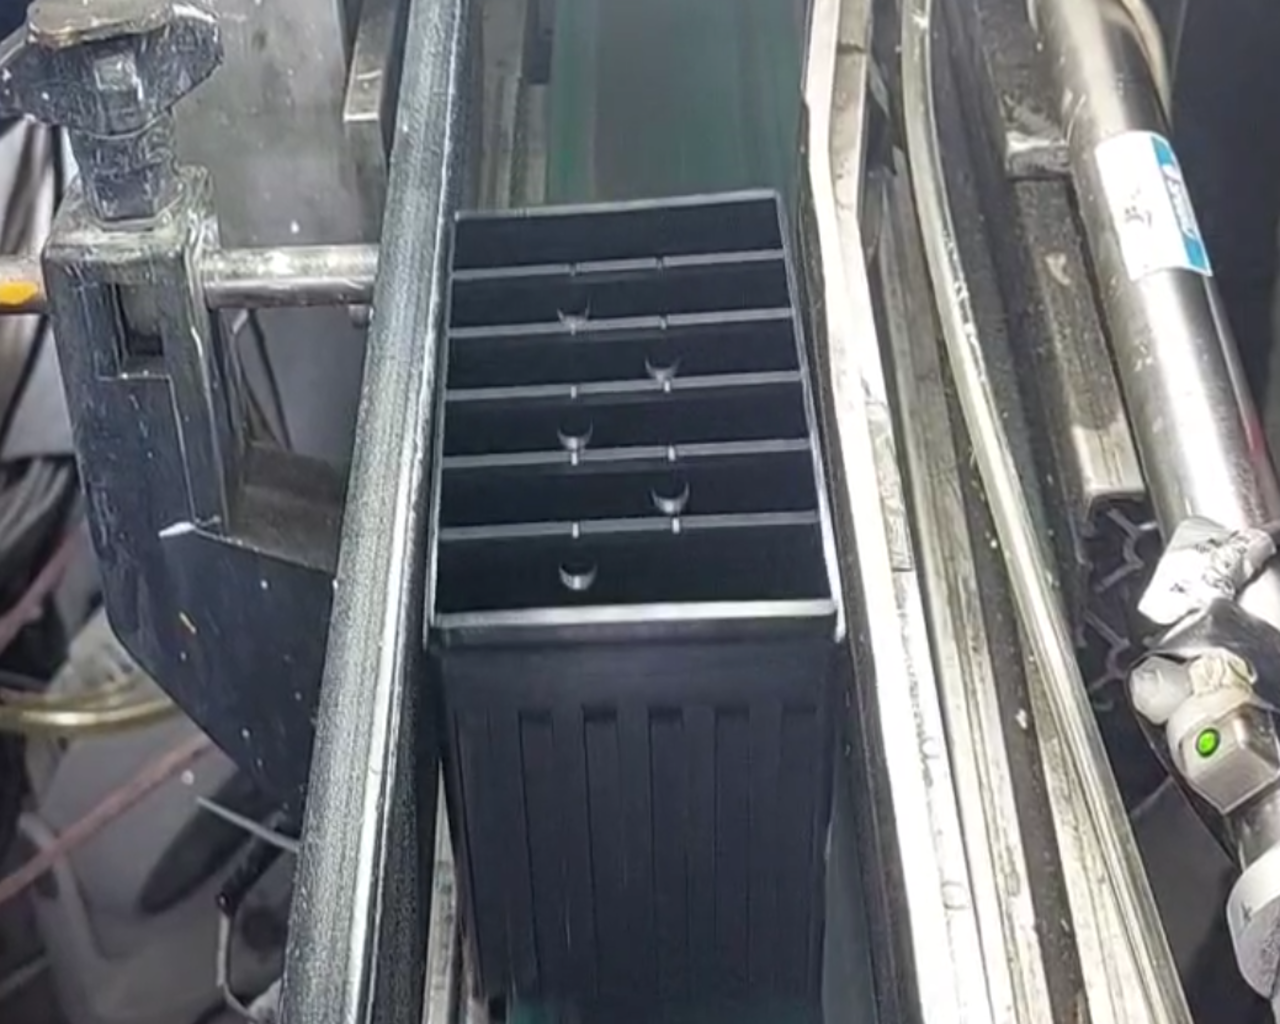box: (410, 174, 858, 664)
round: (542, 399, 605, 453), (638, 464, 698, 518), (546, 544, 606, 596), (633, 332, 686, 385), (545, 282, 602, 330)
